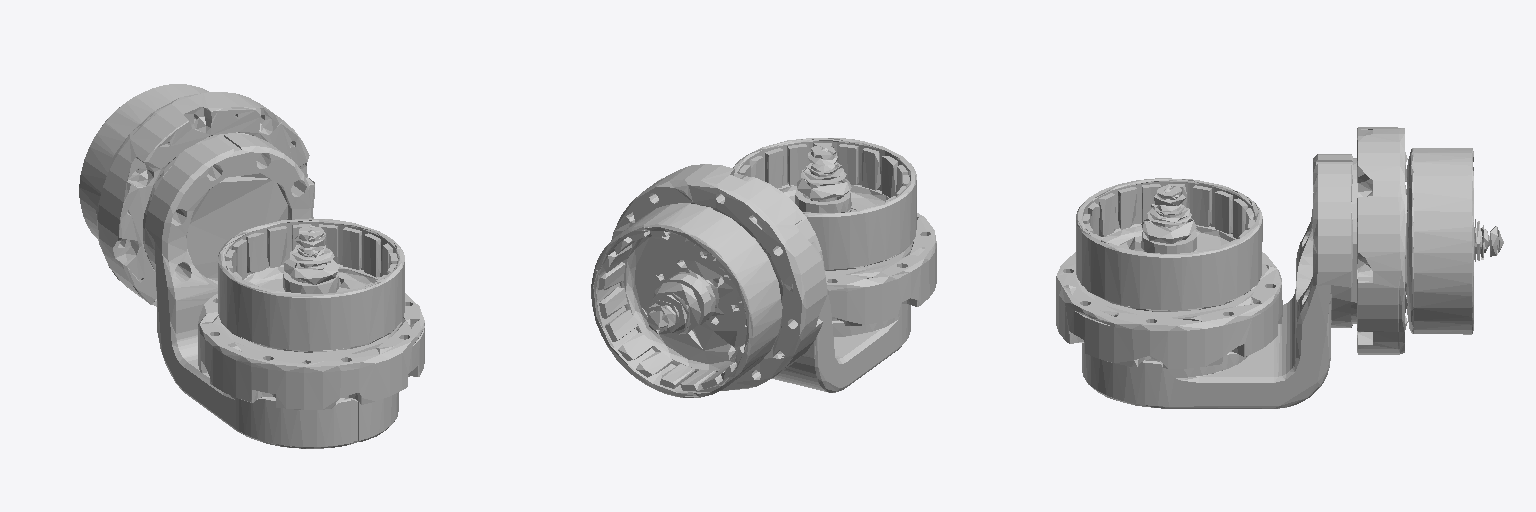
Rendered from right_lower_arm_pitch_link.obj.
3 renders of one model, left to right at view 1: azimuth 30°, elevation 25°; view 2: azimuth 150°, elevation 25°; view 3: azimuth 270°, elevation 25°, orthographic.
Visible parts, largest first — view 1: right_lower_arm_pitch_link; view 2: right_lower_arm_pitch_link; view 3: right_lower_arm_pitch_link.
Part boxes in pixels (bbox=[...]): right_lower_arm_pitch_link: bbox=[79, 84, 424, 448]; right_lower_arm_pitch_link: bbox=[591, 138, 936, 397]; right_lower_arm_pitch_link: bbox=[1056, 127, 1503, 408].
Bounding box in the file's own units: 0.052 × 0.0595 × 0.1026.